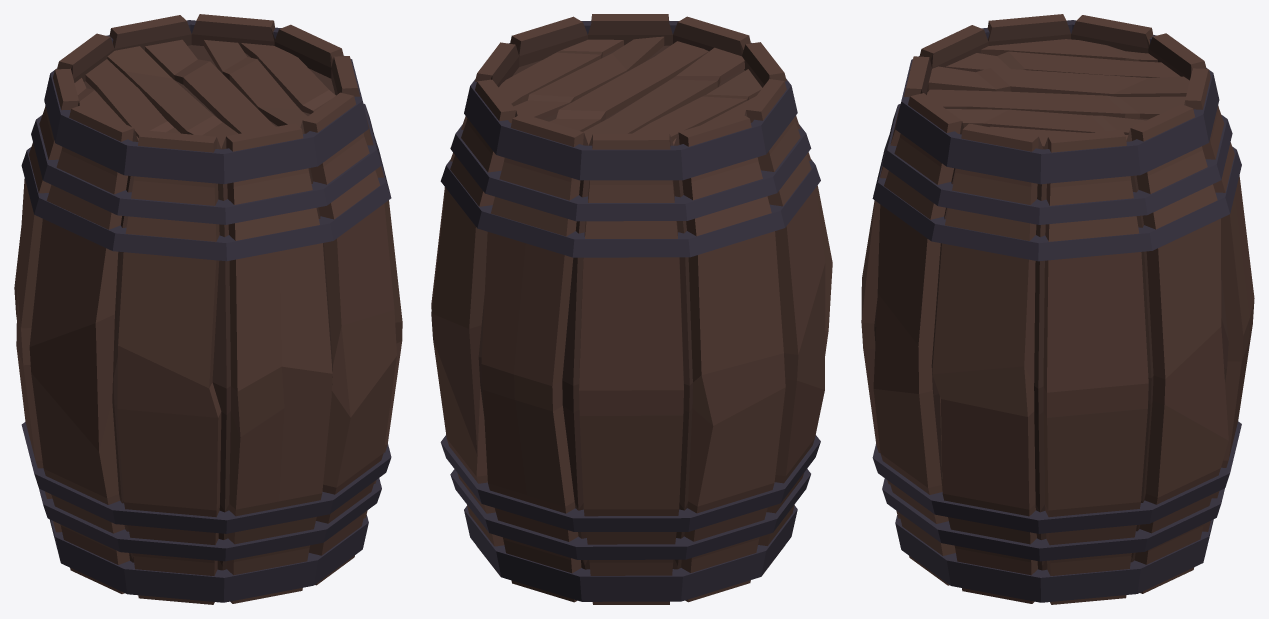
The model's file is dn_barrel.glb.
The picture shows the model from 3 angles, left to right: view 1: azimuth 30°, elevation 25°; view 2: azimuth 150°, elevation 25°; view 3: azimuth 270°, elevation 25°; orthographic projection.
Visible parts, largest first — view 1: dn_barrel2; view 2: dn_barrel2; view 3: dn_barrel2.
Boxes of the visible parts, <box> form: dn_barrel2: <box>14,14,402,604</box>; dn_barrel2: <box>431,14,832,604</box>; dn_barrel2: <box>861,14,1254,604</box>.
Size of the model in its own units: 0.7743 by 1 by 0.7675.
